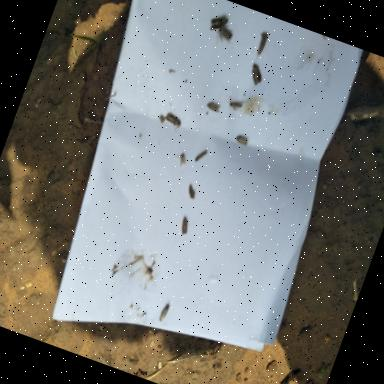pbw: (207, 10, 230, 36), (213, 22, 236, 46), (161, 111, 183, 133), (246, 64, 266, 88), (254, 31, 270, 56), (227, 96, 247, 114), (177, 216, 192, 237), (172, 151, 188, 168), (158, 302, 170, 323), (204, 100, 222, 114), (194, 148, 207, 165), (185, 185, 198, 201), (234, 134, 249, 147)
